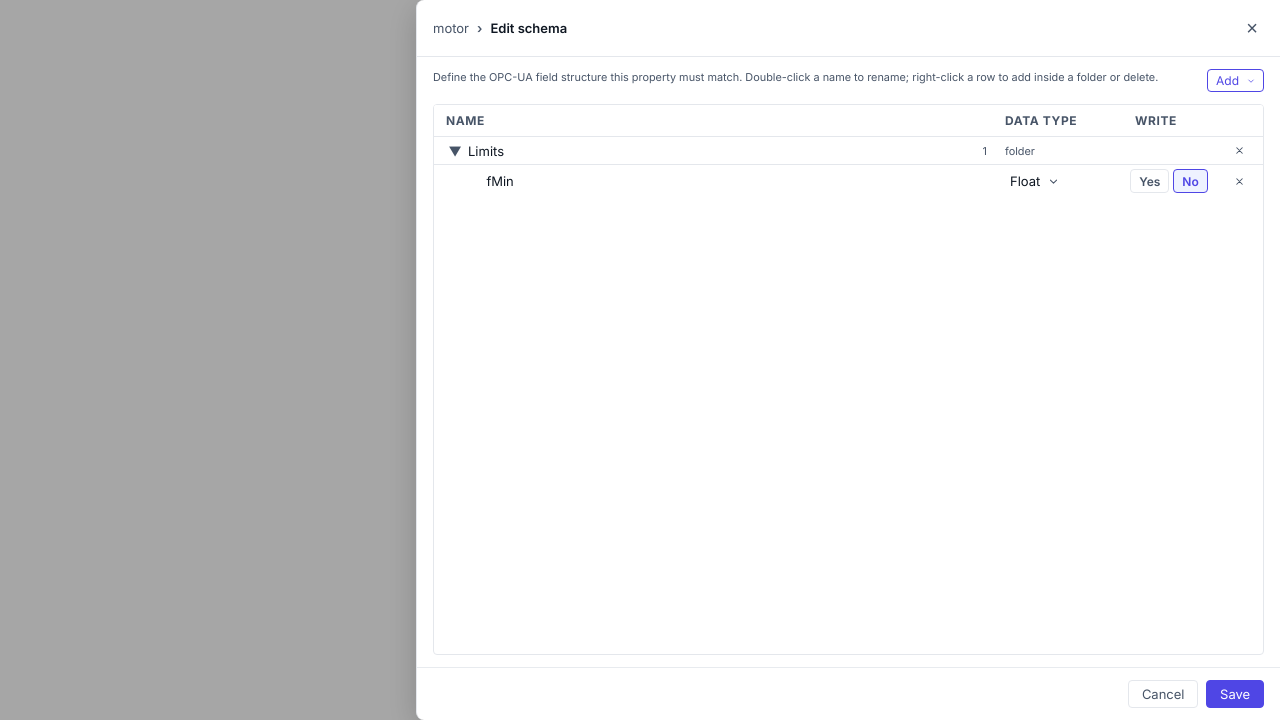
StructSchemaModal › collapses and re-expands a folder, hiding and re-showing its nested rows
This screenshot has width=1280, height=720.
Check: the text "fMin" is shown, box top-left (486, 173), bottom-right (514, 189)
Click the text "Limits" at (486, 150), box top-left (468, 142), bottom-right (504, 158)
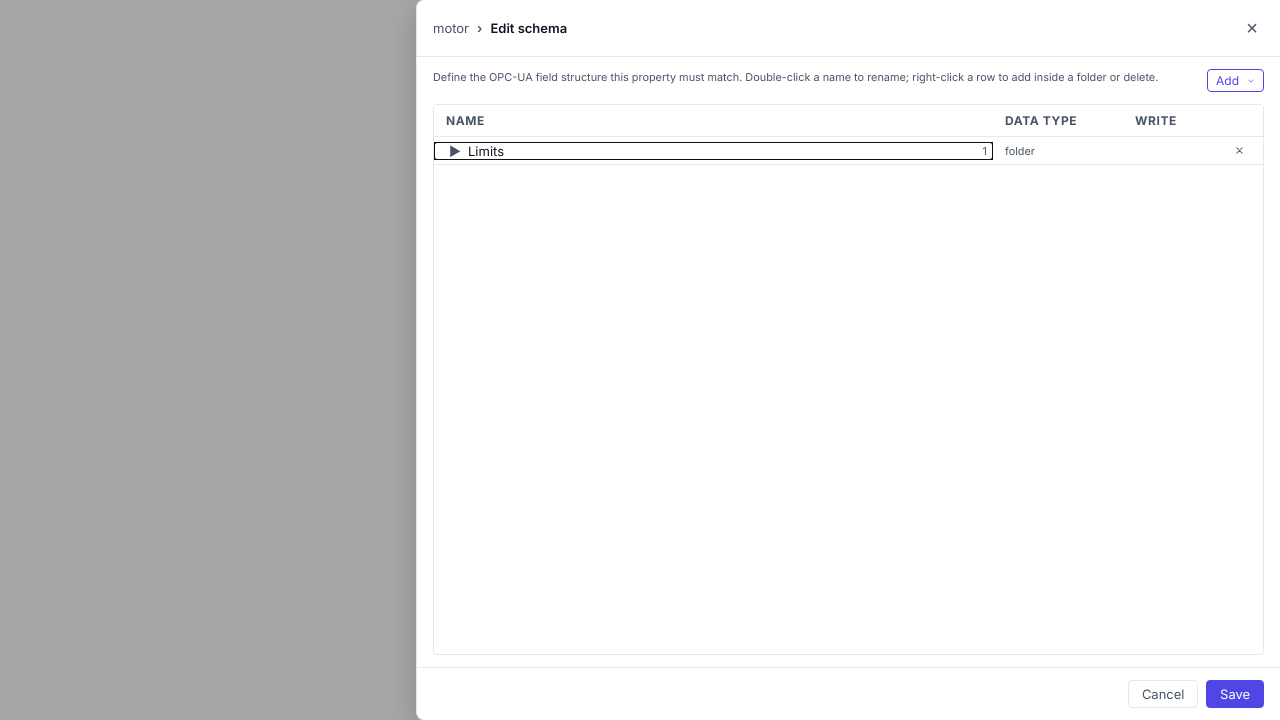
Check: the text "fMin" is gone
Click the text "Limits" at (486, 150), box top-left (468, 142), bottom-right (504, 158)
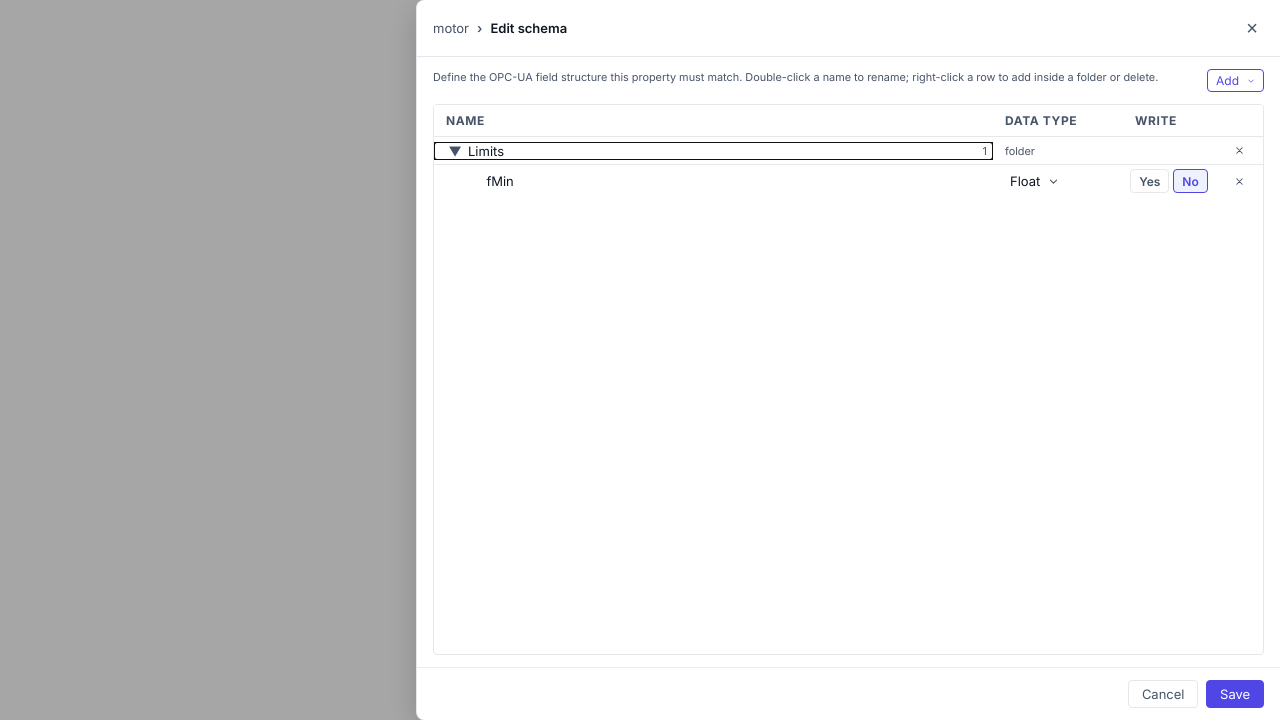
Check: the text "fMin" is shown, box top-left (486, 173), bottom-right (514, 189)
